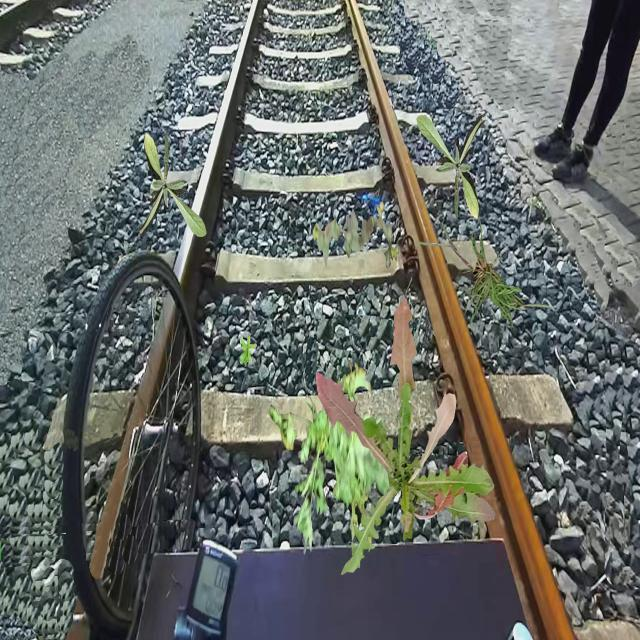Plant: (316, 297, 496, 575), (270, 359, 395, 555), (418, 211, 562, 330), (416, 113, 488, 221), (135, 132, 206, 240), (312, 201, 398, 270), (240, 335, 258, 367)
